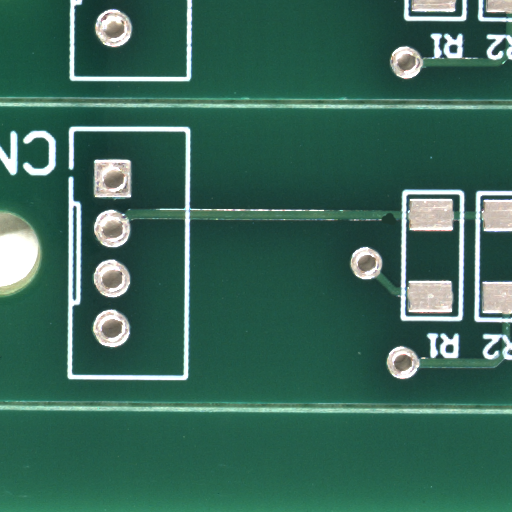Mouse_bite: (389, 218, 404, 230)
